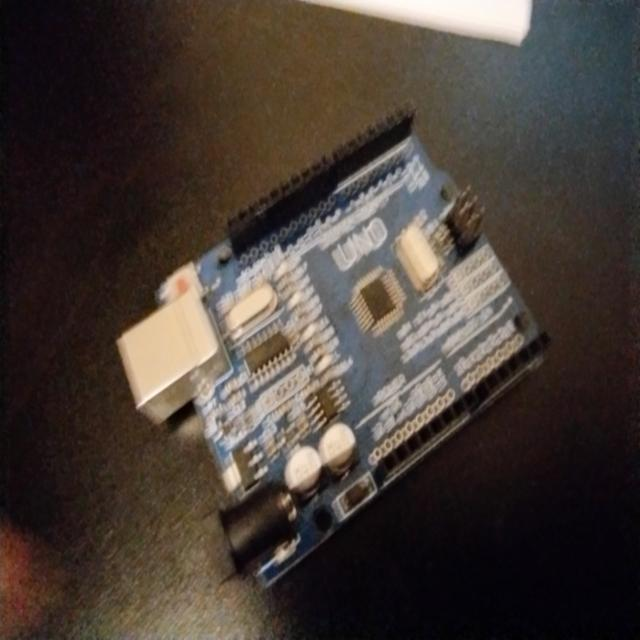arduino: (118, 190, 538, 558)
